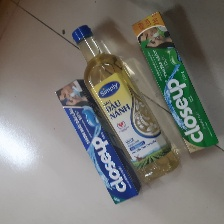CloseUp Tuyet: (53, 77, 139, 204)
CloseUp Xanh: (131, 10, 218, 153)
Simply: (71, 24, 181, 186)
